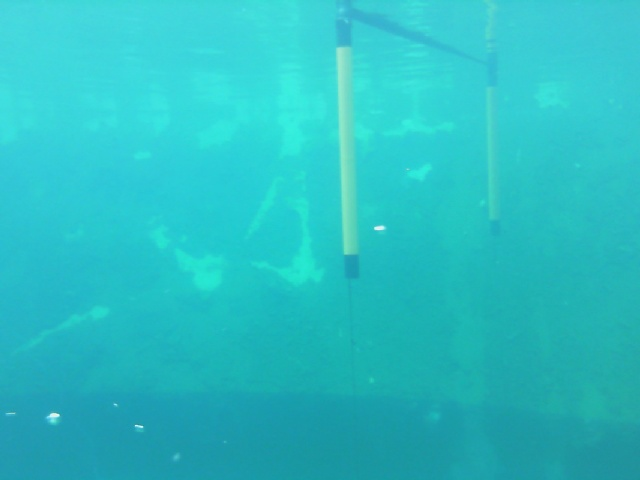qual_gate: (330, 11, 366, 282), (484, 52, 505, 243)
